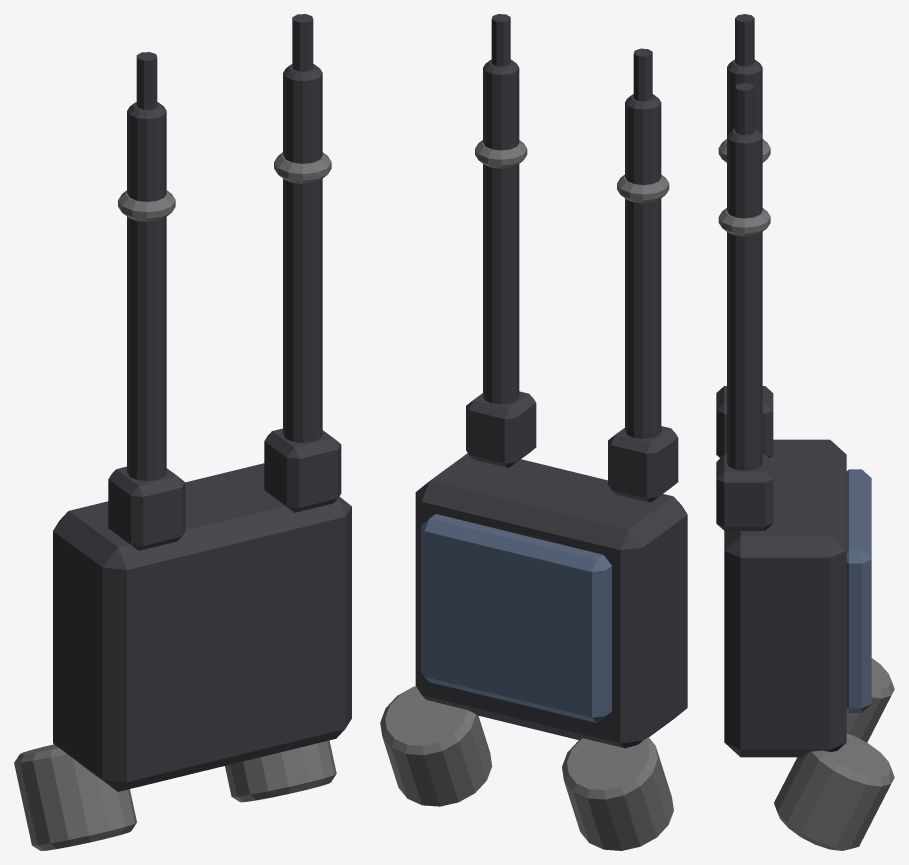
The model's file is recon_booster.glb.
3 views of the same model, side by side, from view 1: azimuth 30°, elevation 25°; view 2: azimuth 150°, elevation 25°; view 3: azimuth 270°, elevation 25° (orthographic). The views are drawn at different scales.
Parts seen in each view (by area): view 1: Backpack, MastR, MastL, NozzleR, MastBaseL, MastBaseR, NozzleL, MastTipR, MastTipL, MastRingL, MastRingR; view 2: Backpack, BackpackPlate, MastL, MastR, NozzleR, NozzleL, MastBaseR, MastBaseL, MastTipL, MastTipR, MastRingR, MastRingL; view 3: Backpack, MastL, NozzleL, BackpackPlate, MastBaseL, NozzleR, MastBaseR, MastR, MastTipR, MastTipL, MastRingL.
Part boxes in pixels (x1,y1,x2,y2): Backpack: (53, 463, 351, 791); MastR: (127, 102, 166, 480); MastL: (283, 64, 322, 442); NozzleR: (14, 744, 136, 850); MastBaseL: (264, 428, 341, 512); MastBaseR: (108, 466, 185, 550); NozzleL: (225, 740, 336, 802); MastTipR: (136, 52, 157, 109); MastTipL: (292, 14, 313, 71); MastRingL: (274, 152, 331, 183); MastRingR: (118, 190, 175, 221); Backpack: (415, 453, 687, 748); BackpackPlate: (421, 514, 611, 722); MastL: (483, 59, 519, 404); MastR: (625, 94, 661, 438); NozzleR: (562, 737, 673, 850); NozzleL: (380, 686, 492, 806); MastBaseR: (608, 426, 678, 502); MastBaseL: (466, 391, 536, 467); MastTipL: (491, 14, 510, 66); MastTipR: (633, 48, 652, 101); MastRingR: (617, 174, 669, 203); MastRingL: (475, 140, 527, 168); Backpack: (724, 439, 846, 757); MastL: (727, 128, 762, 470); NozzleL: (774, 733, 894, 850); BackpackPlate: (846, 469, 871, 712); MastBaseL: (716, 454, 773, 530); NozzleR: (846, 658, 894, 742); MastBaseR: (716, 386, 773, 458); MastR: (727, 59, 762, 135); MastTipR: (735, 14, 754, 66); MastTipL: (735, 83, 754, 135); MastRingL: (718, 208, 770, 236).
Size of the model in its own units: 1.88 by 5.06 by 1.1.
